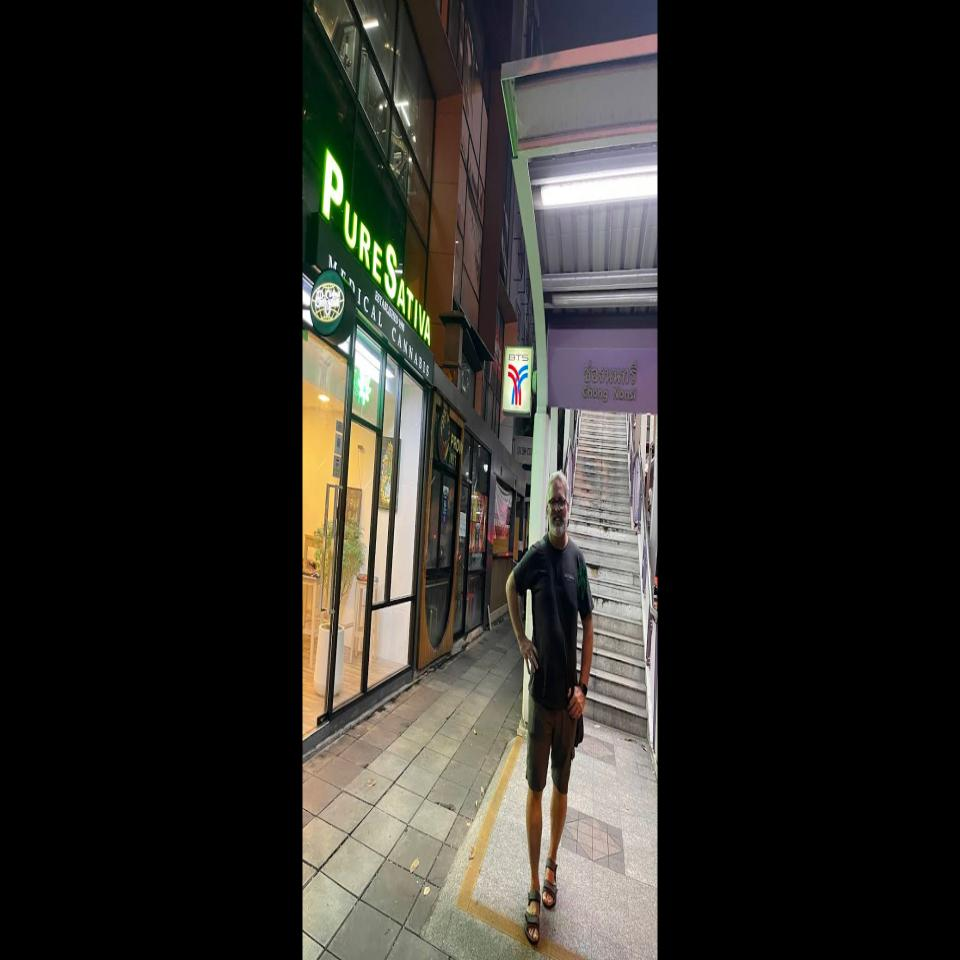Chong Nonsi: (501, 342, 658, 415), (546, 343, 658, 414)
